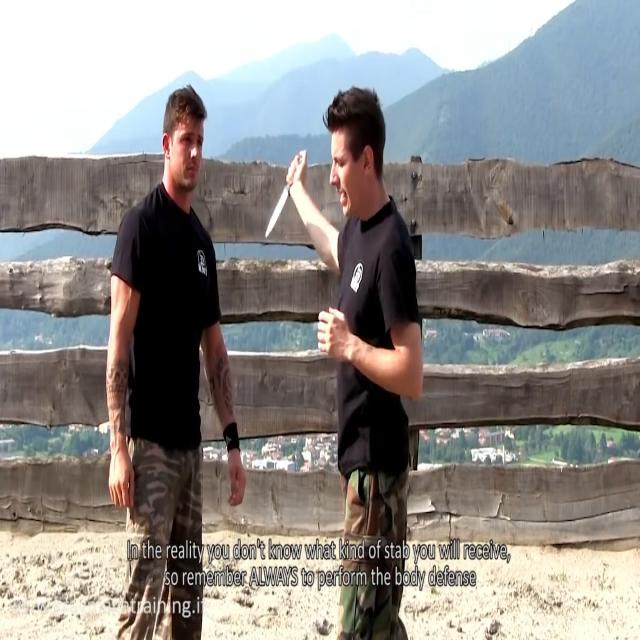knife: (264, 184, 293, 245)
